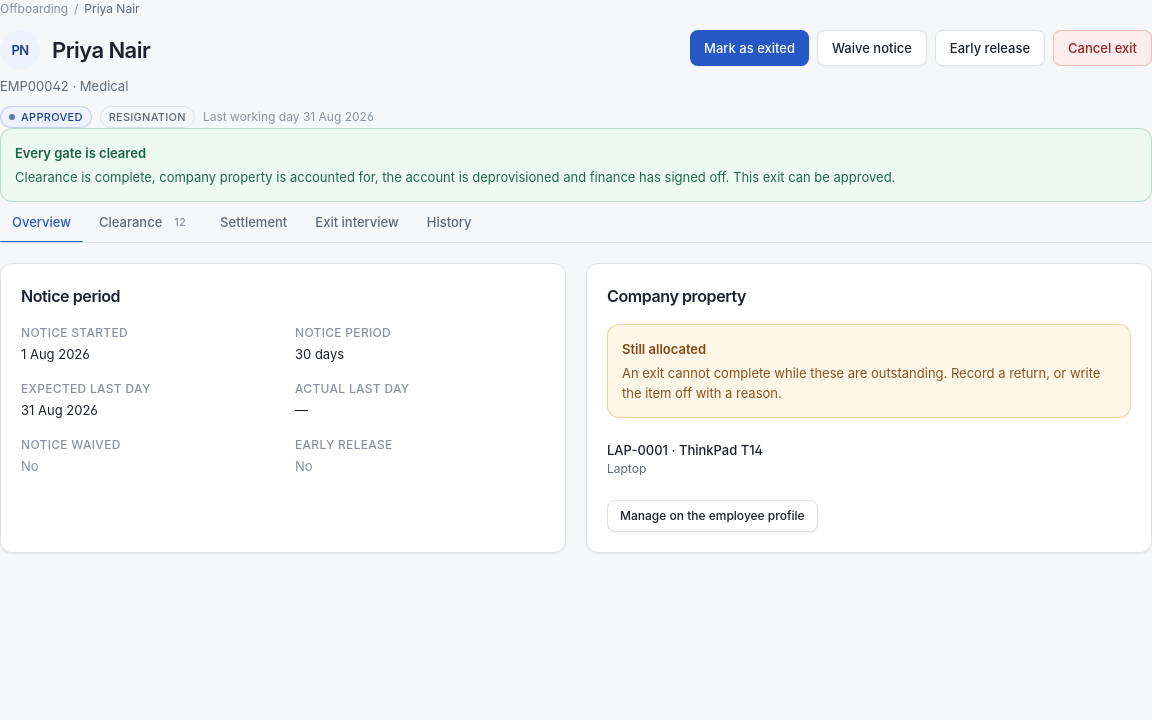
it: Permission-driven actions › warns that marking exited is final
The width and height of the screenshot is (1152, 720).
Click the button "Mark as exited": click(750, 48) [690,30,809,66]
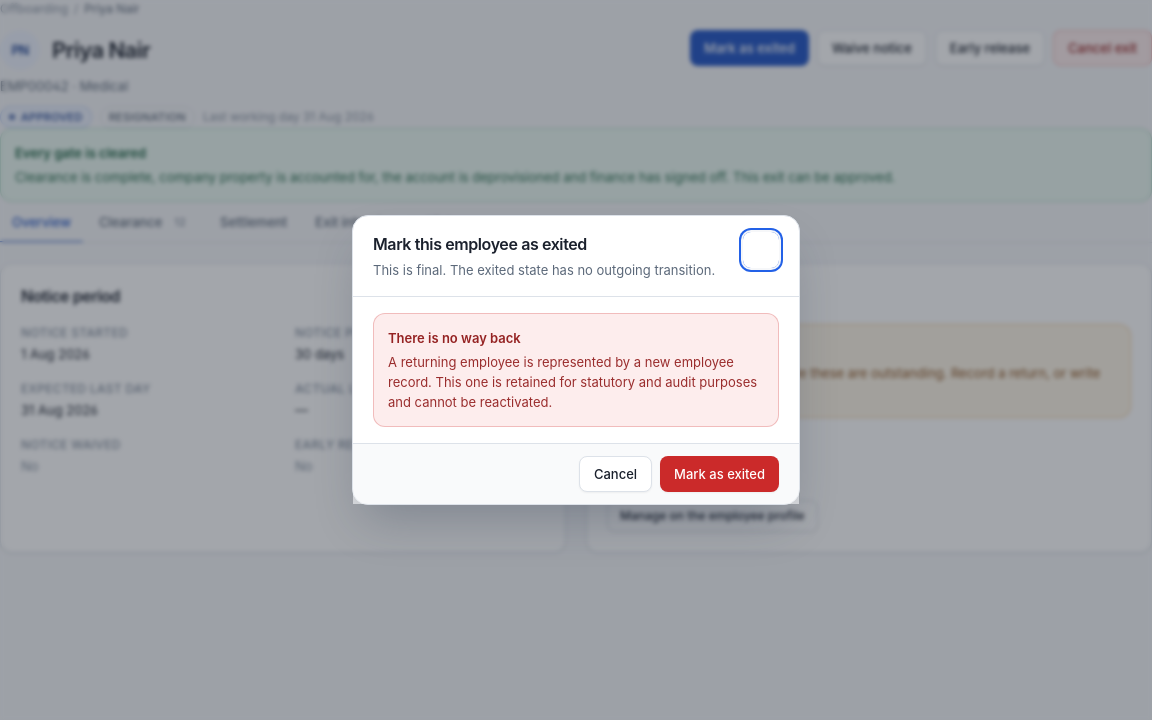
Expected: the text "There is no way back" is shown, [388,330,521,346]
